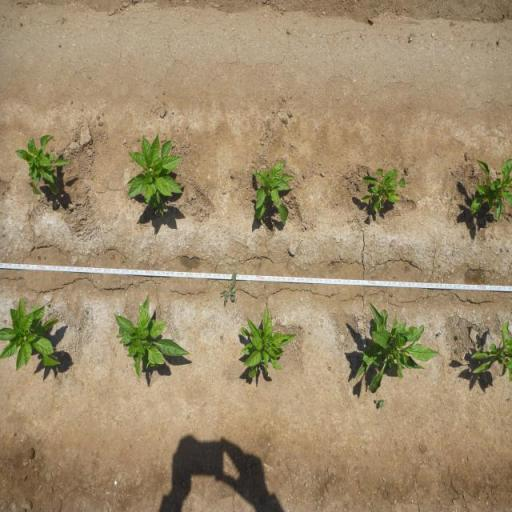plant: (352, 299, 437, 394), (113, 289, 193, 382), (126, 130, 185, 220), (238, 302, 298, 382), (0, 296, 62, 371), (13, 132, 74, 198), (250, 158, 298, 226), (469, 155, 512, 224), (473, 319, 512, 384), (359, 165, 405, 214)
weed: (220, 272, 237, 306), (374, 398, 384, 410), (404, 167, 409, 176), (436, 330, 442, 337), (388, 292, 394, 299), (298, 324, 304, 330), (454, 348, 460, 354), (230, 173, 235, 179), (327, 366, 332, 372), (455, 334, 460, 340), (220, 334, 223, 340), (472, 324, 476, 328), (47, 303, 50, 307)
